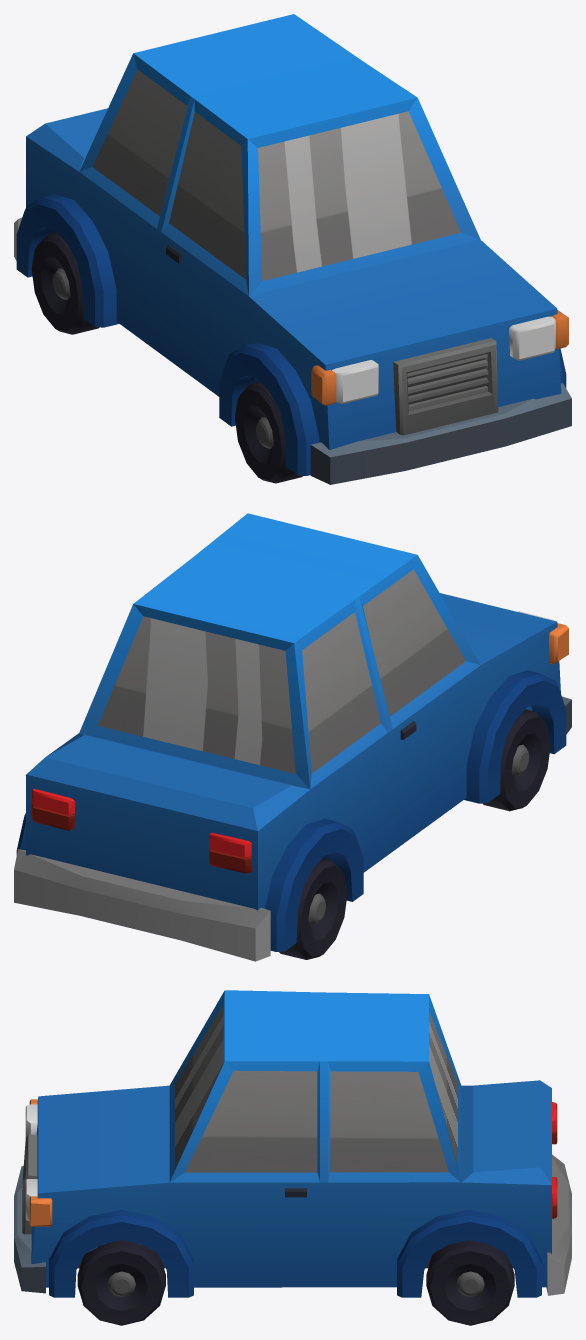
File: Car_2_4.glb
3 renders of one model, top to bottom at view 1: azimuth 30°, elevation 25°; view 2: azimuth 150°, elevation 25°; view 3: azimuth 270°, elevation 25°, orthographic. The views are drawn at different scales.
Parts seen in each view (by area): view 1: Car_2_4, W_BR, W_FR; view 2: Car_2_4, W_FR, W_BR; view 3: Car_2_4, W_BL, W_FL.
Part boxes in pixels (x1,y1,x2,y2): Car_2_4: [14, 14, 571, 484]; W_BR: [31, 232, 99, 334]; W_FR: [235, 381, 302, 483]; Car_2_4: [14, 513, 571, 961]; W_FR: [482, 709, 550, 811]; W_BR: [279, 858, 347, 959]; Car_2_4: [14, 990, 571, 1297]; W_BL: [426, 1240, 514, 1325]; W_FL: [77, 1240, 165, 1325].
Size of the model in its own units: 1.09 by 1.11 by 2.28.
5 materials, 5 textured.
